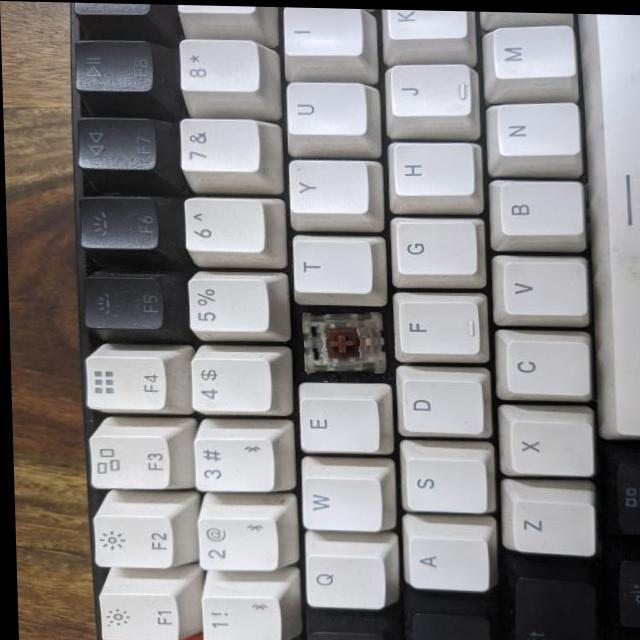key-switch: (301, 309, 387, 371)
